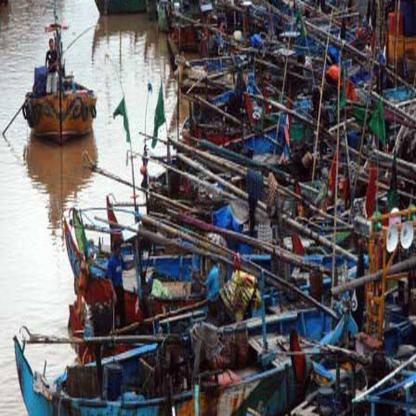fishing boat: (21, 53, 99, 140)
